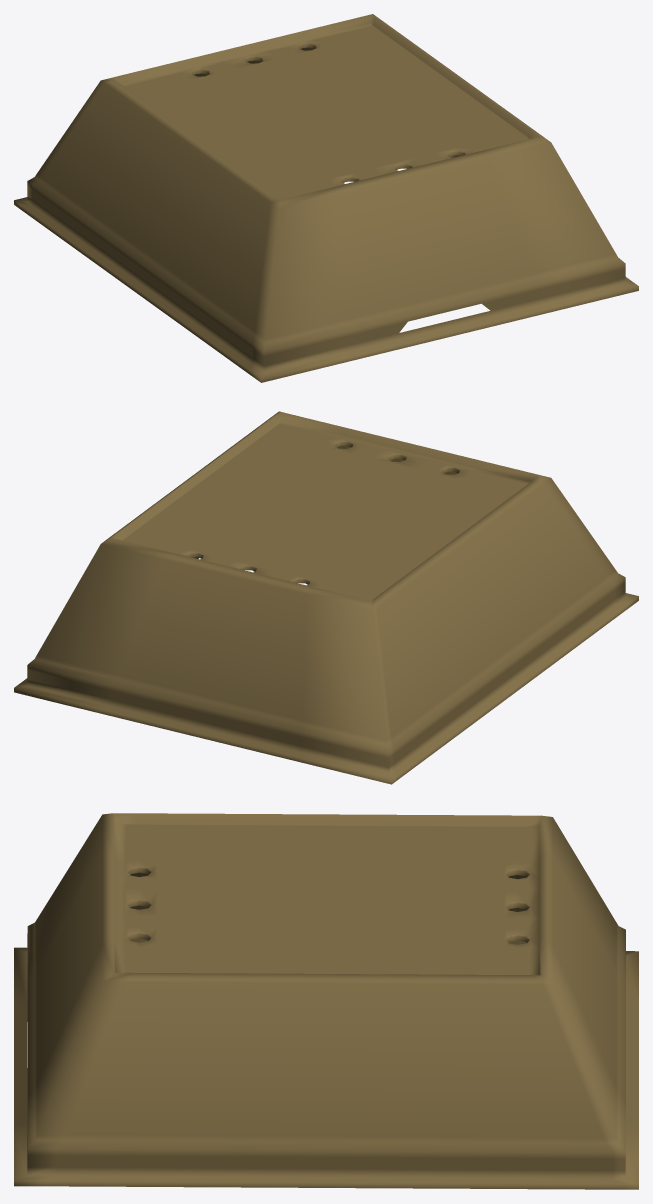
The model's file is Mesh_BurgerBox_Lid.fbx.
The picture shows the model from 3 angles, top to bottom: view 1: azimuth 30°, elevation 25°; view 2: azimuth 150°, elevation 25°; view 3: azimuth 270°, elevation 25°; orthographic projection. The views are drawn at different scales.
Visible parts, largest first — view 1: burgerbox_lid; view 2: burgerbox_lid; view 3: burgerbox_lid.
Boxes of the visible parts, left/top/right/bottom form: burgerbox_lid: left=14, top=14, right=638, bottom=382; burgerbox_lid: left=14, top=411, right=638, bottom=784; burgerbox_lid: left=14, top=813, right=638, bottom=1189.
Size of the model in its own units: 18.01 by 6.51 by 20.42.
